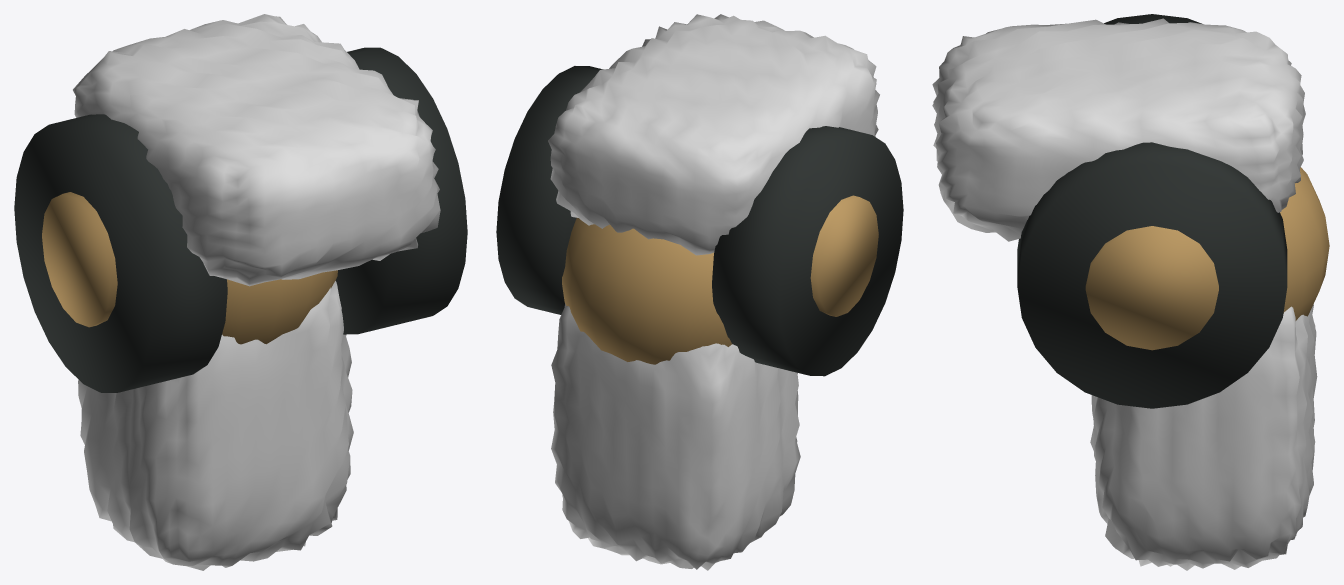
File: hotshot-leg-1.glb
The picture shows the model from 3 angles, left to right: view 1: azimuth 30°, elevation 25°; view 2: azimuth 150°, elevation 25°; view 3: azimuth 270°, elevation 25°; orthographic projection. The views are drawn at different scales.
Parts seen in each view (by area): view 1: foot_clay, upper_clay, foot_rubber, foot_brass, upper_brass; view 2: foot_clay, upper_clay, foot_rubber, upper_brass, foot_brass; view 3: foot_clay, foot_rubber, upper_clay, foot_brass, upper_brass.
Boxes of the visible parts, x1,y1,x2,y2 form: foot_clay: (73, 14, 440, 286); upper_clay: (78, 281, 353, 570); foot_rubber: (14, 47, 467, 392); foot_brass: (42, 192, 117, 327); upper_brass: (222, 270, 337, 344); foot_clay: (548, 14, 879, 255); upper_clay: (551, 303, 800, 570); foot_rubber: (496, 66, 903, 376); upper_brass: (562, 218, 731, 364); foot_brass: (810, 195, 878, 316); foot_clay: (932, 18, 1305, 241); foot_rubber: (1017, 14, 1287, 408); upper_clay: (1090, 304, 1317, 570); foot_brass: (1085, 226, 1218, 350); upper_brass: (1280, 167, 1329, 320).
Size of the model in its own units: 0.44 by 0.6385 by 0.4706.
